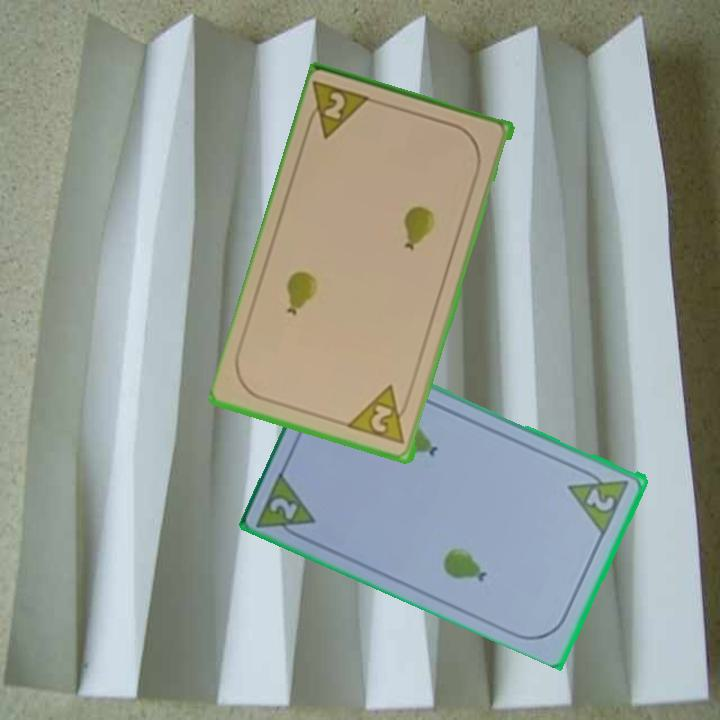2p: (565, 462, 633, 536), (302, 78, 377, 143), (346, 382, 413, 448), (266, 493, 302, 523)
